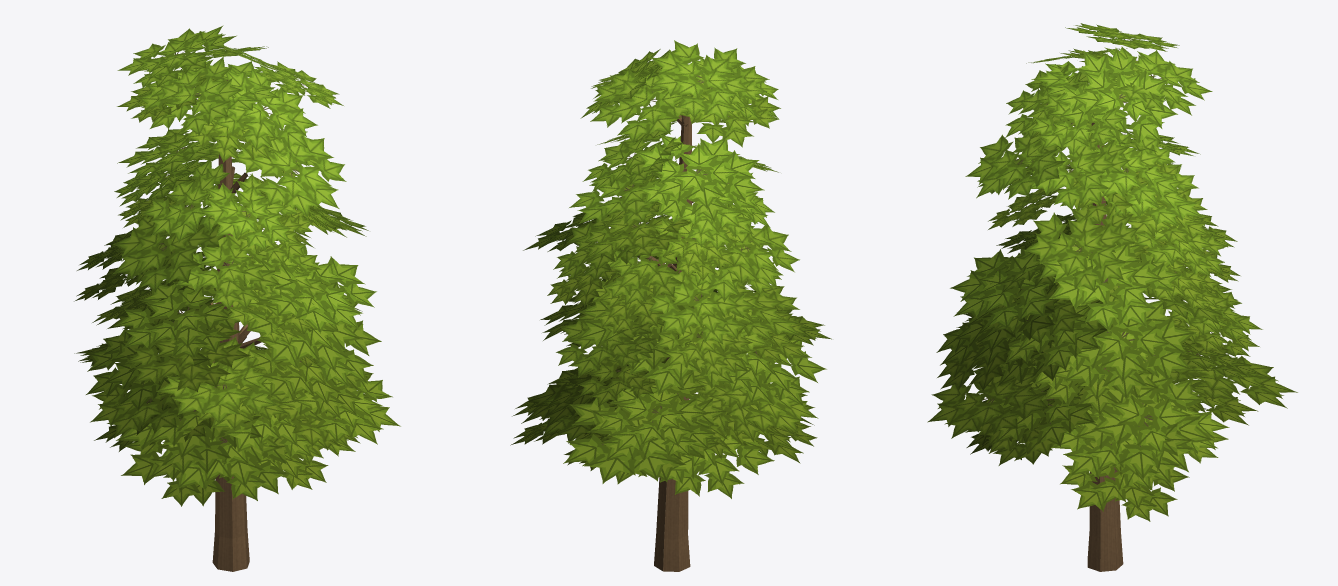
File: maple2_s.glb
The picture shows the model from 3 angles, left to right: view 1: azimuth 30°, elevation 25°; view 2: azimuth 150°, elevation 25°; view 3: azimuth 270°, elevation 25°; orthographic projection.
Visible parts, largest first — view 1: maple2_s; view 2: maple2_s; view 3: maple2_s.
Boxes of the visible parts, x1,y1,x2,y2 form: maple2_s: [74, 25, 400, 571]; maple2_s: [510, 40, 831, 571]; maple2_s: [927, 23, 1297, 571].
Size of the model in its own units: 3.25 by 5.01 by 3.61.
Materials: 2 (2 with a texture image).
